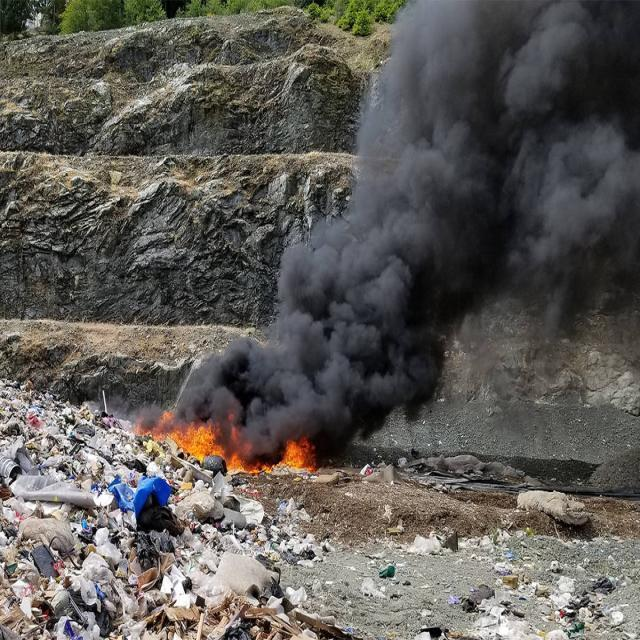Fire: (138, 413, 225, 470), (262, 438, 328, 487)
Smoke: (164, 0, 640, 446)
